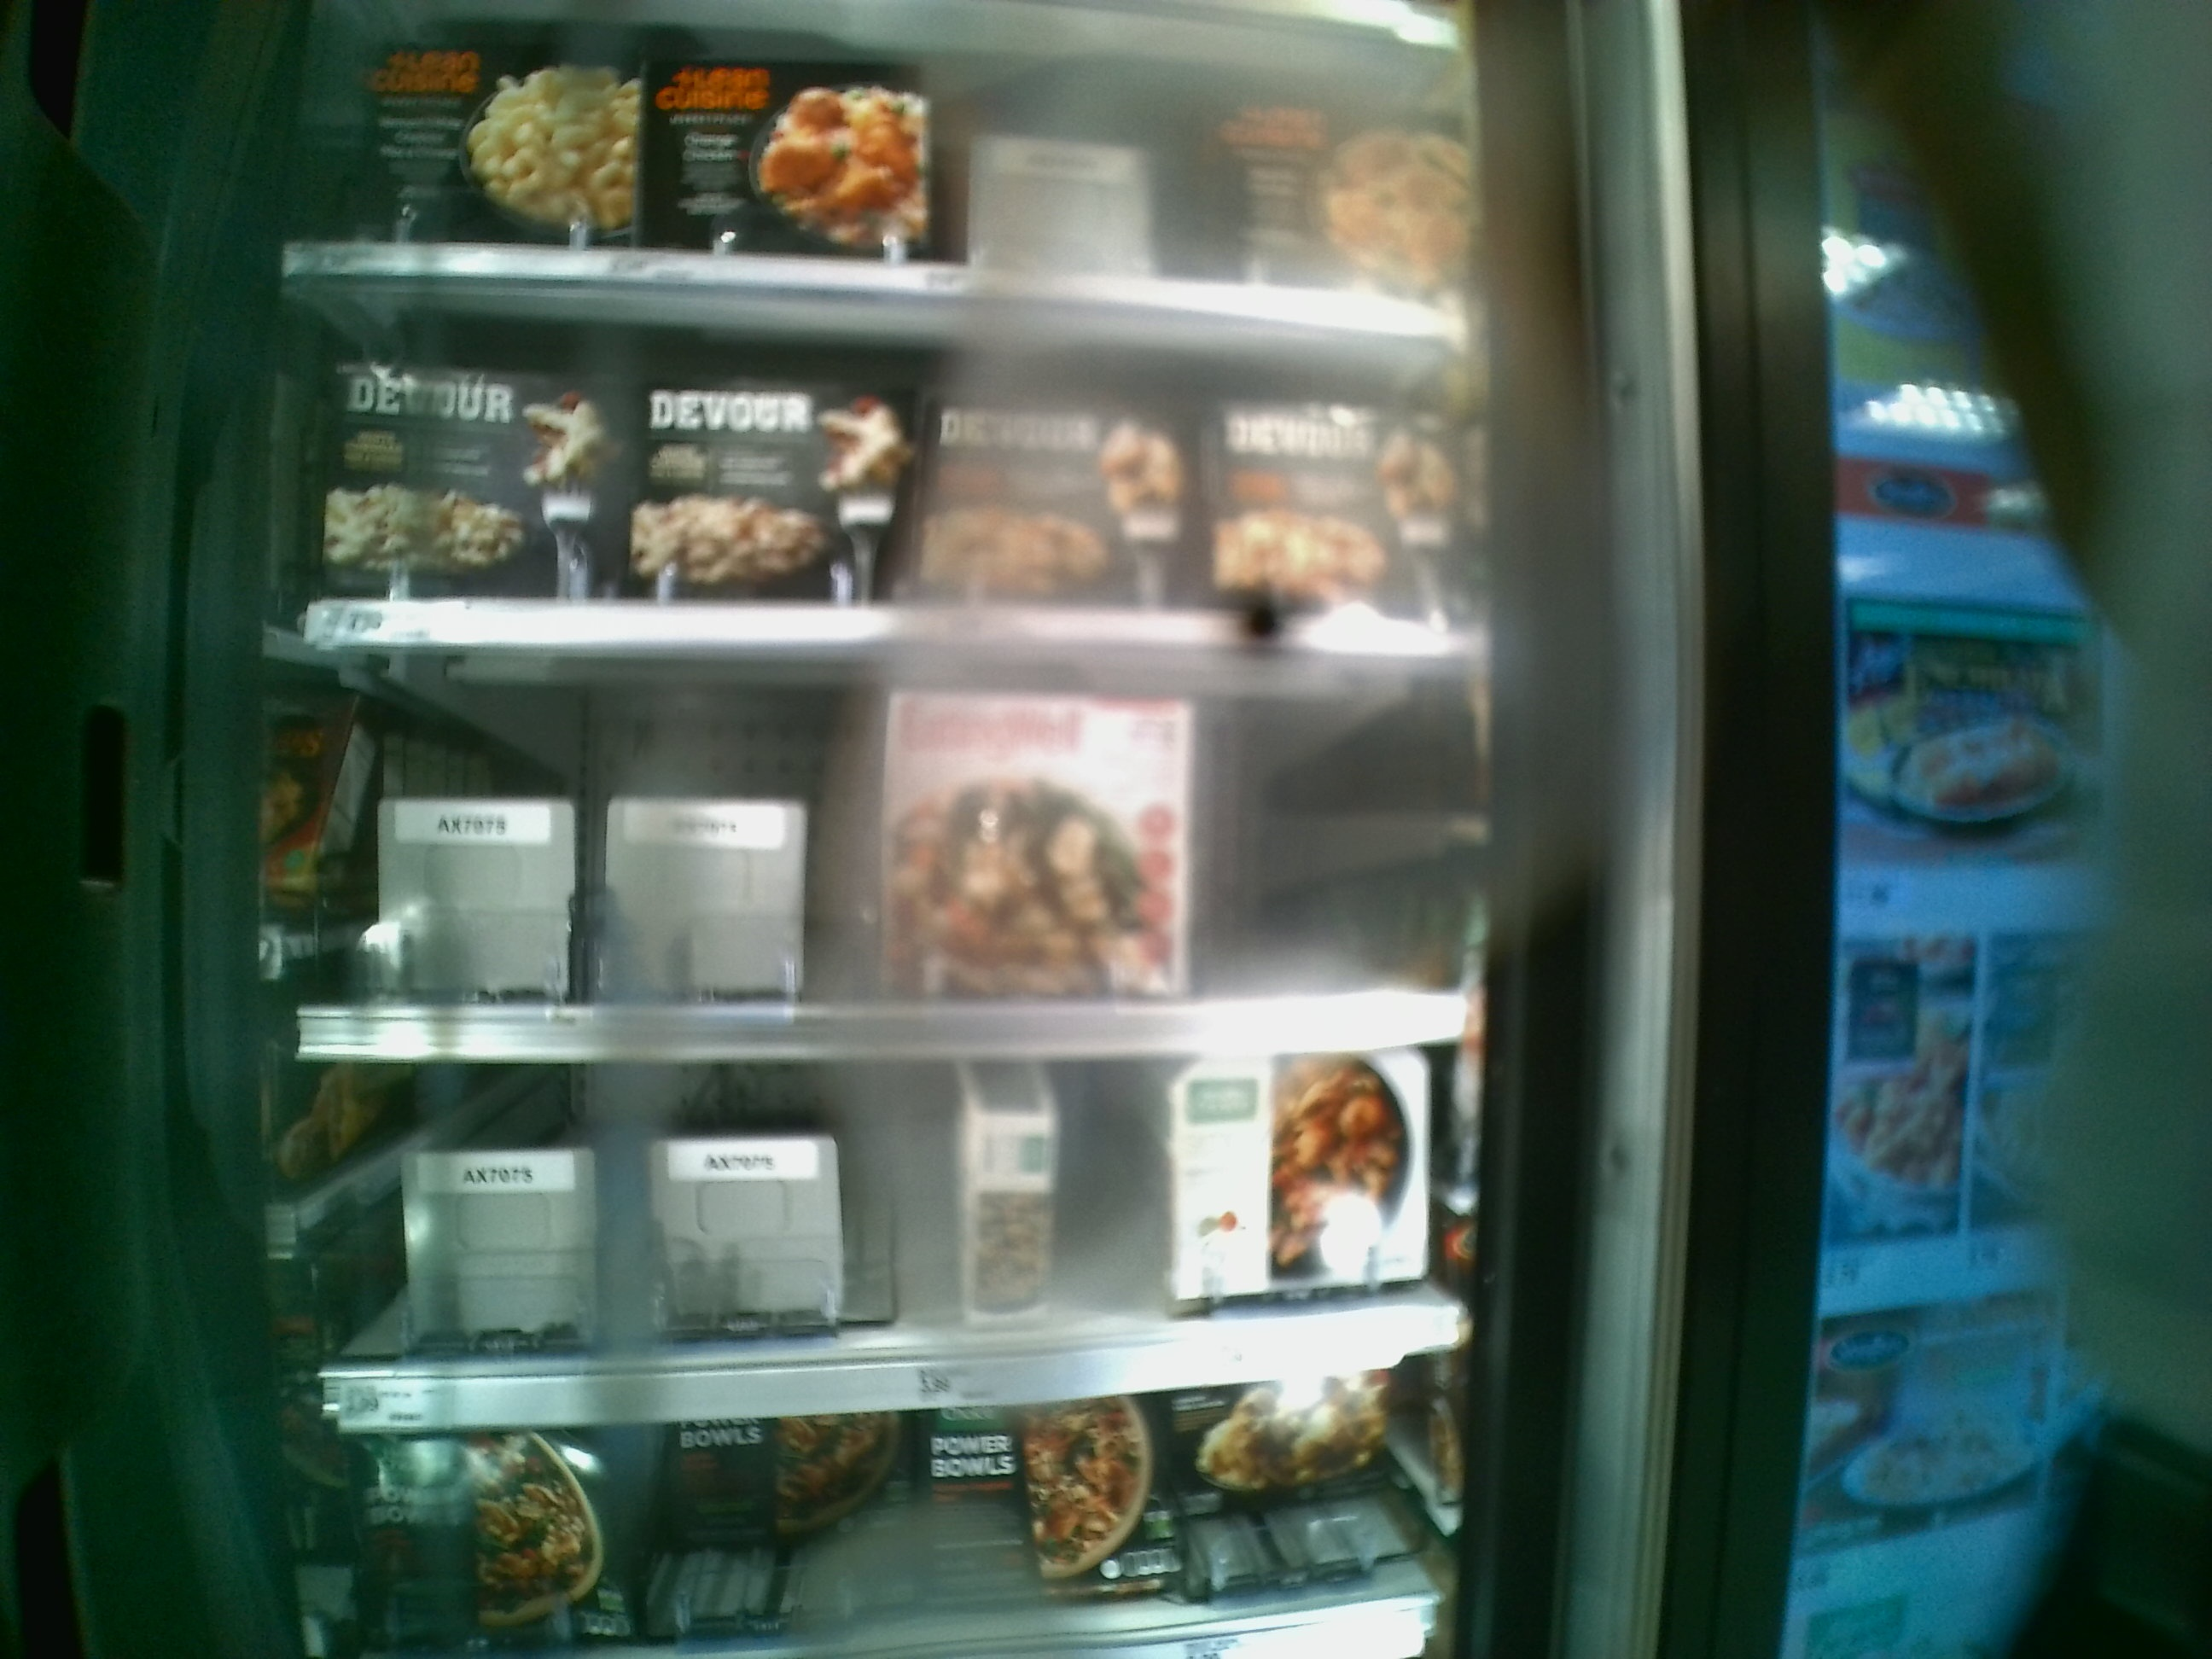shelf: (298, 636, 1480, 1070), (280, 277, 1474, 648), (294, 1054, 1480, 1413)
